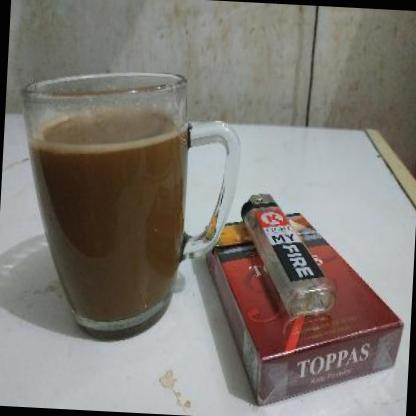objects: (198, 206, 410, 413)
